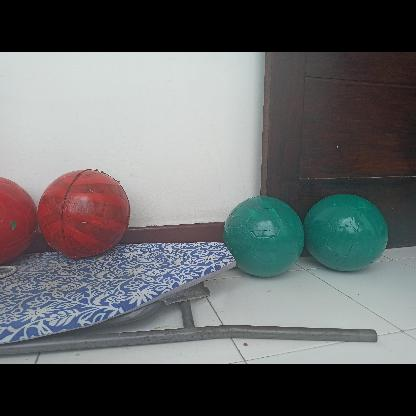red_ball: (39, 166, 129, 256)
